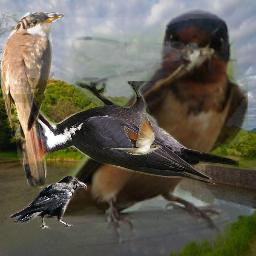Crow: (9, 175, 87, 231)
Cuckoo: (0, 12, 64, 188), (103, 114, 162, 155)
Swallow: (37, 9, 248, 250)
Woodpecker: (25, 81, 239, 185)
